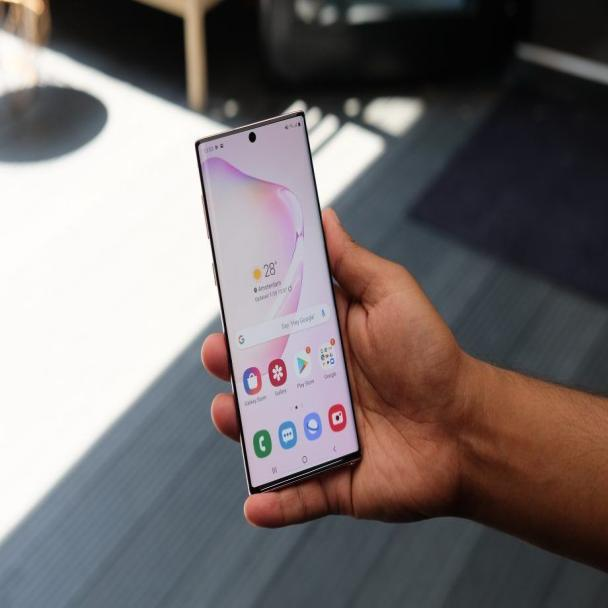Handphone: (195, 108, 364, 502)
